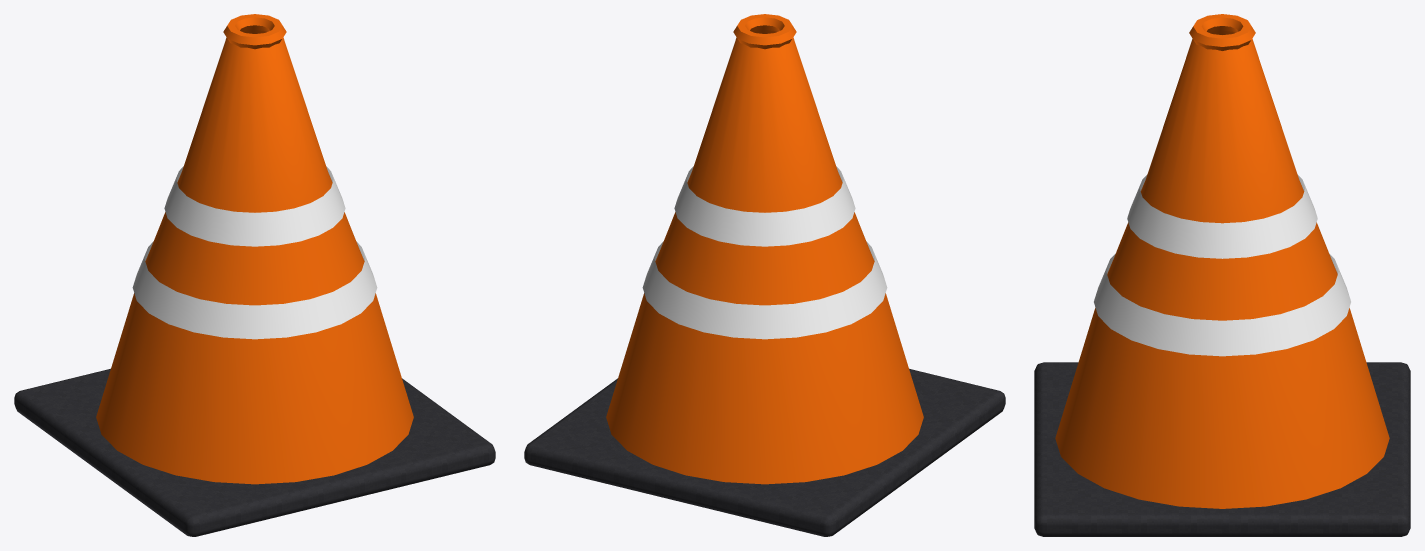
File: x_hat_cone.glb
3 renders of one model, left to right at view 1: azimuth 30°, elevation 25°; view 2: azimuth 150°, elevation 25°; view 3: azimuth 270°, elevation 25°, orthographic. The views are drawn at different scales.
Visible parts, largest first — view 1: hat_body, hat_base, hat_stripes; view 2: hat_body, hat_base, hat_stripes; view 3: hat_body, hat_base, hat_stripes.
Boxes of the visible parts, <box> form: hat_body: <box>96,14,413,484</box>; hat_base: <box>14,368,495,536</box>; hat_stripes: <box>132,166,377,339</box>; hat_body: <box>606,14,923,484</box>; hat_base: <box>524,368,1005,536</box>; hat_stripes: <box>642,166,887,339</box>; hat_body: <box>1055,14,1389,508</box>; hat_base: <box>1034,362,1410,536</box>; hat_stripes: <box>1094,174,1350,356</box>.
Size of the model in its own units: 0.9 by 1.15 by 0.9.
3 materials, 1 textured.
